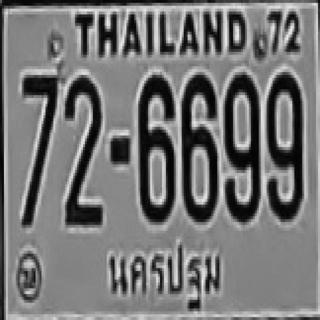N00: (223, 72, 259, 219)
N02: (63, 73, 101, 218), (63, 74, 101, 206)
N06: (136, 72, 174, 219), (180, 72, 215, 219)
N07: (22, 72, 57, 222), (22, 72, 57, 173)
N09: (265, 71, 302, 218), (223, 72, 259, 219)
P28: (102, 241, 228, 316)
